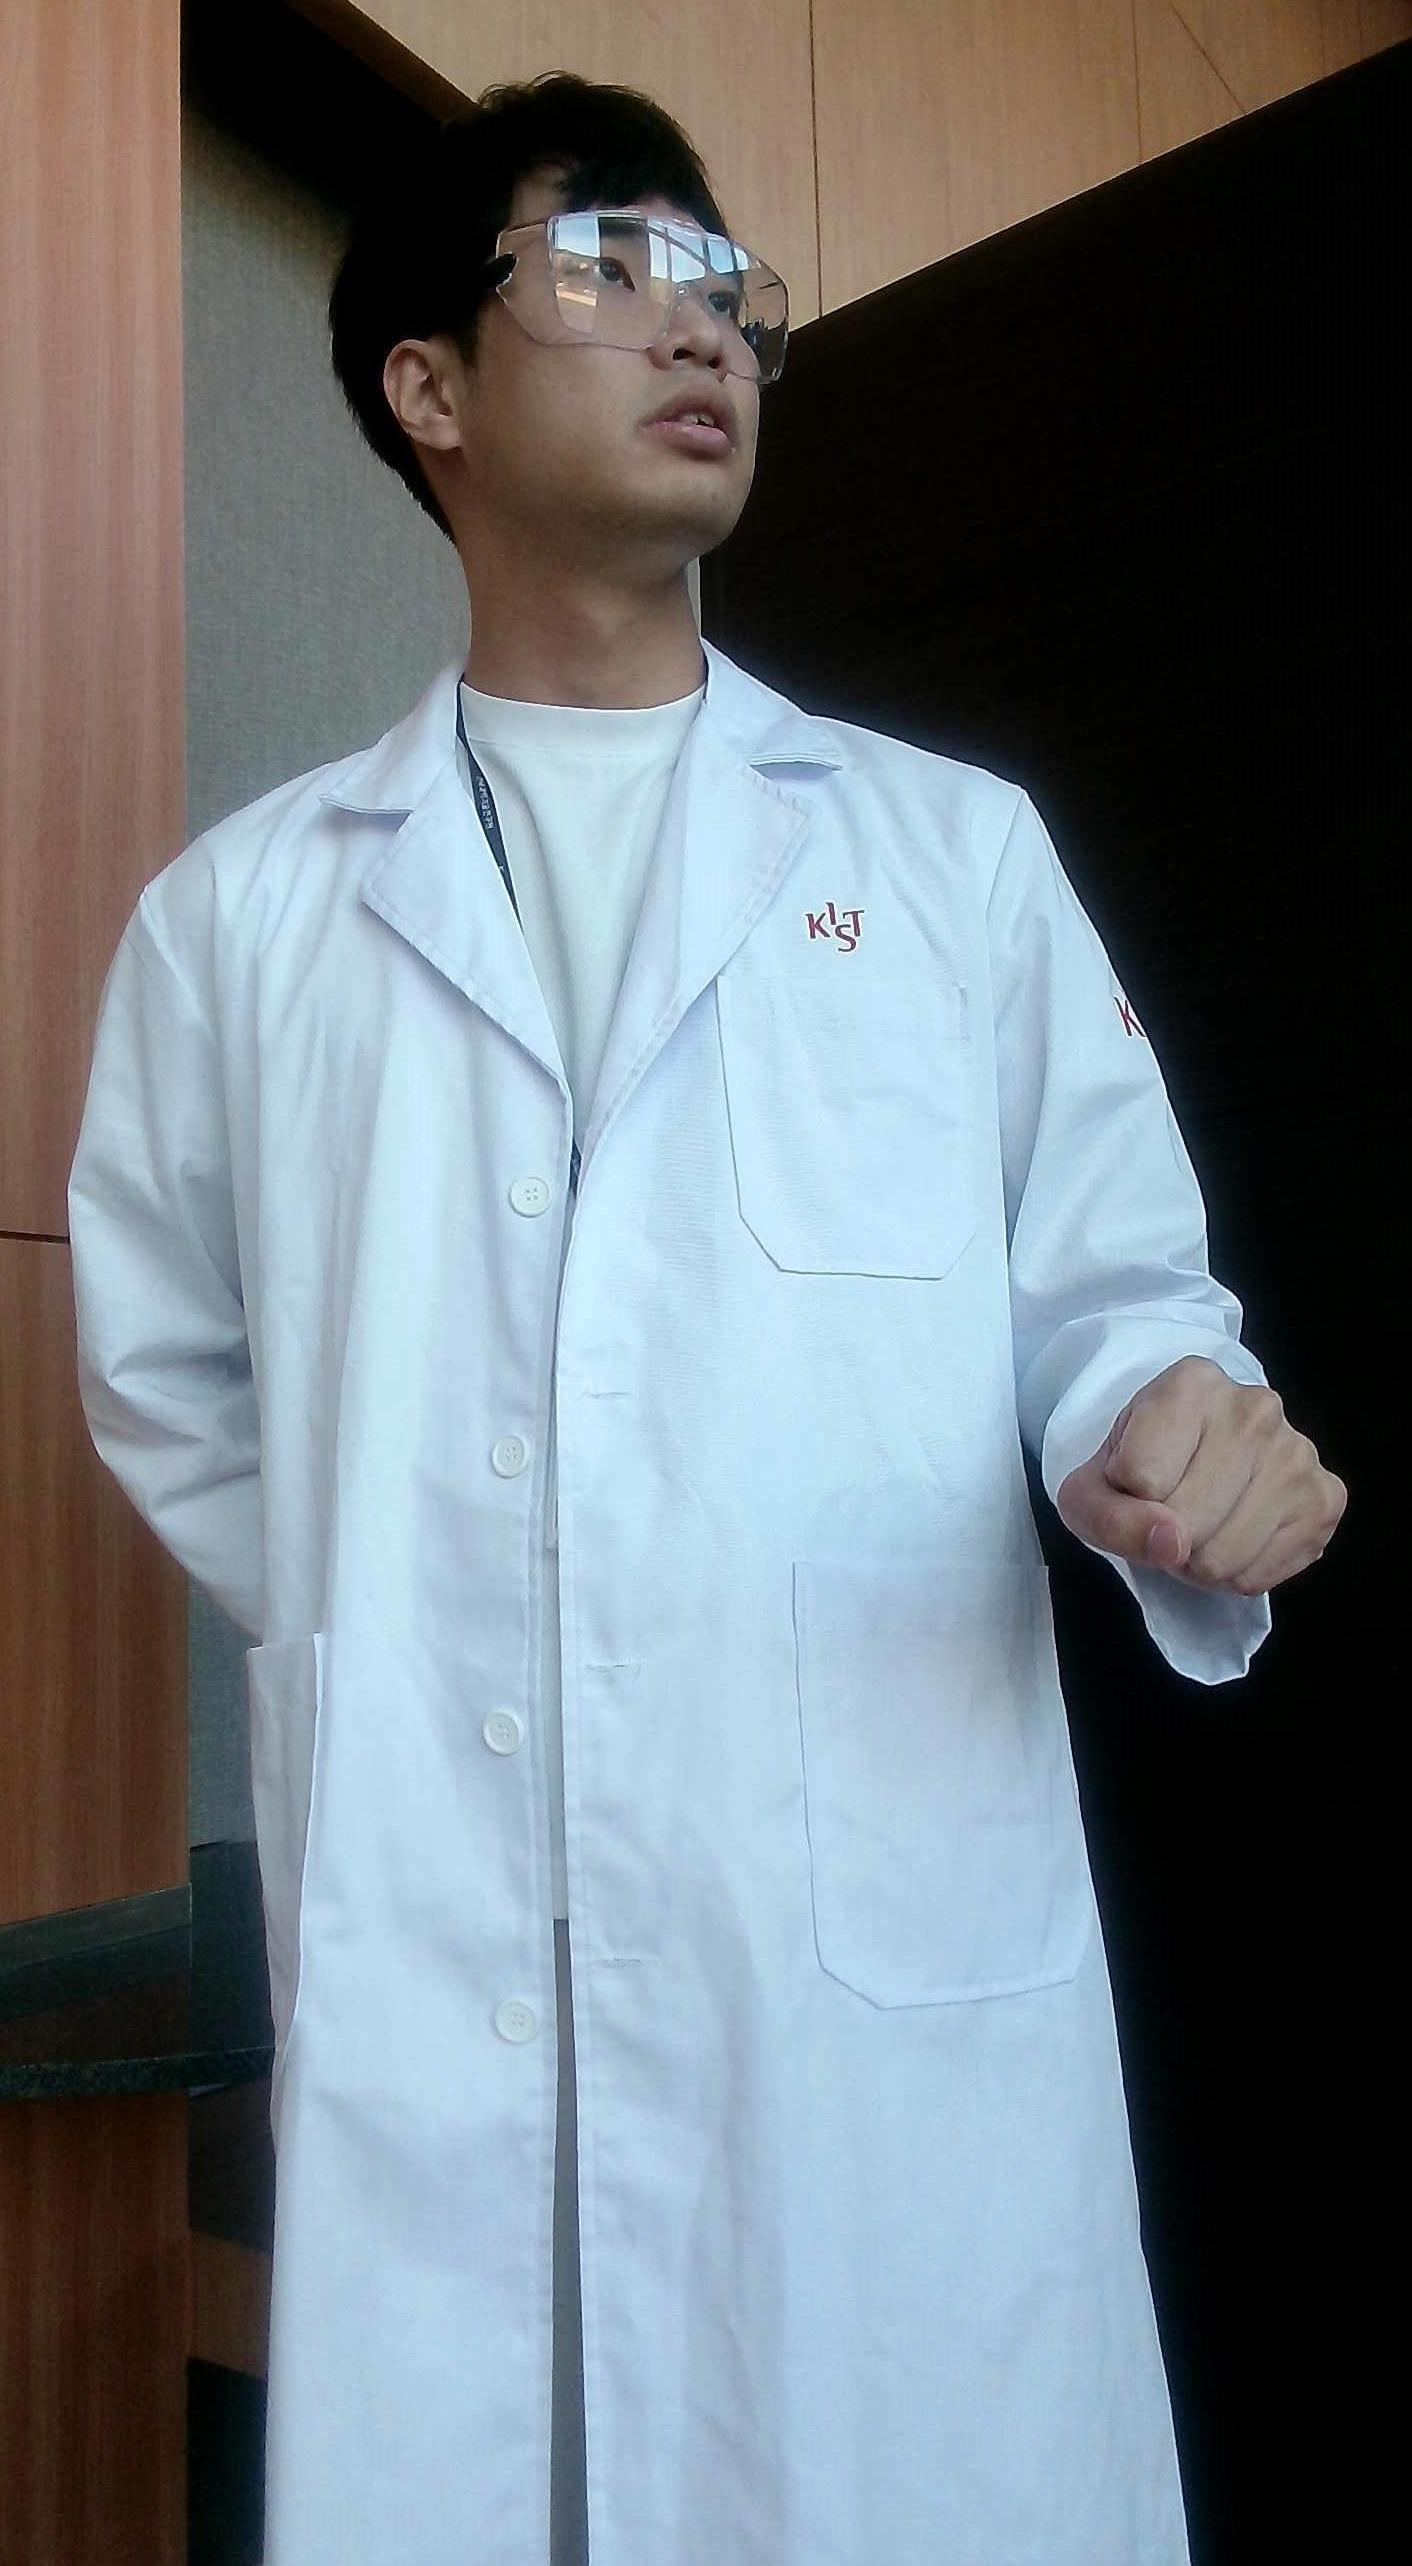lab_coat: (71, 735, 1108, 2566)
